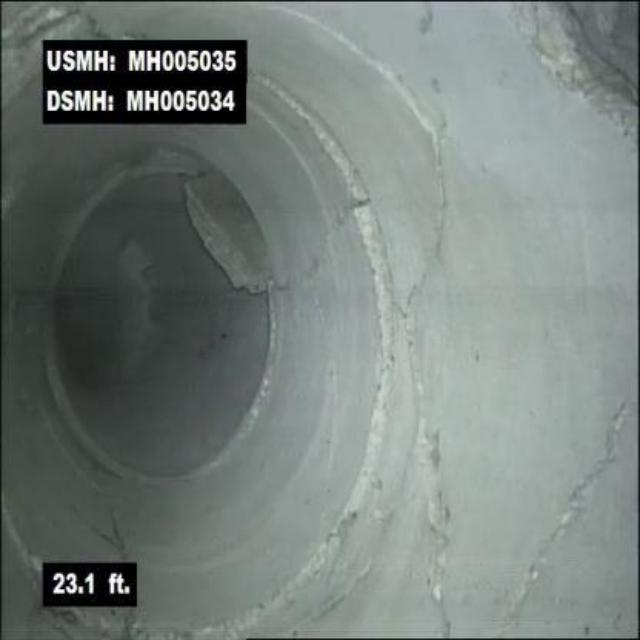Crack: (503, 398, 632, 637), (403, 346, 469, 638), (335, 31, 431, 140), (406, 140, 457, 318)
Hole: (503, 3, 637, 115)
